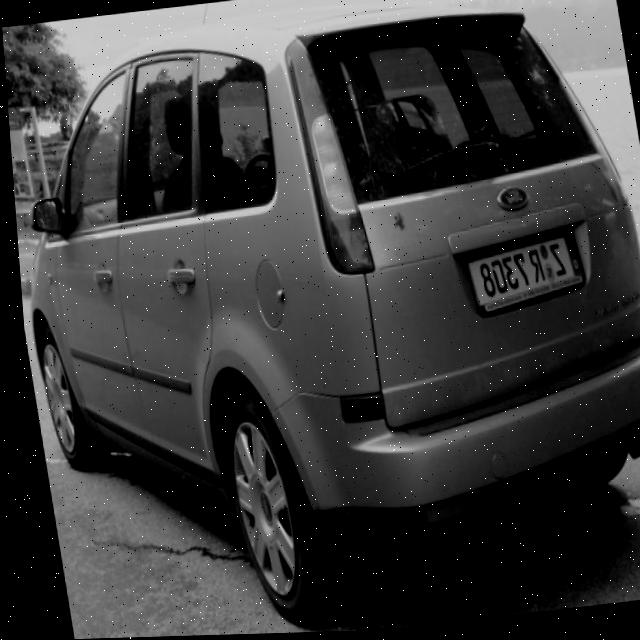license-plates: (467, 233, 585, 312)
